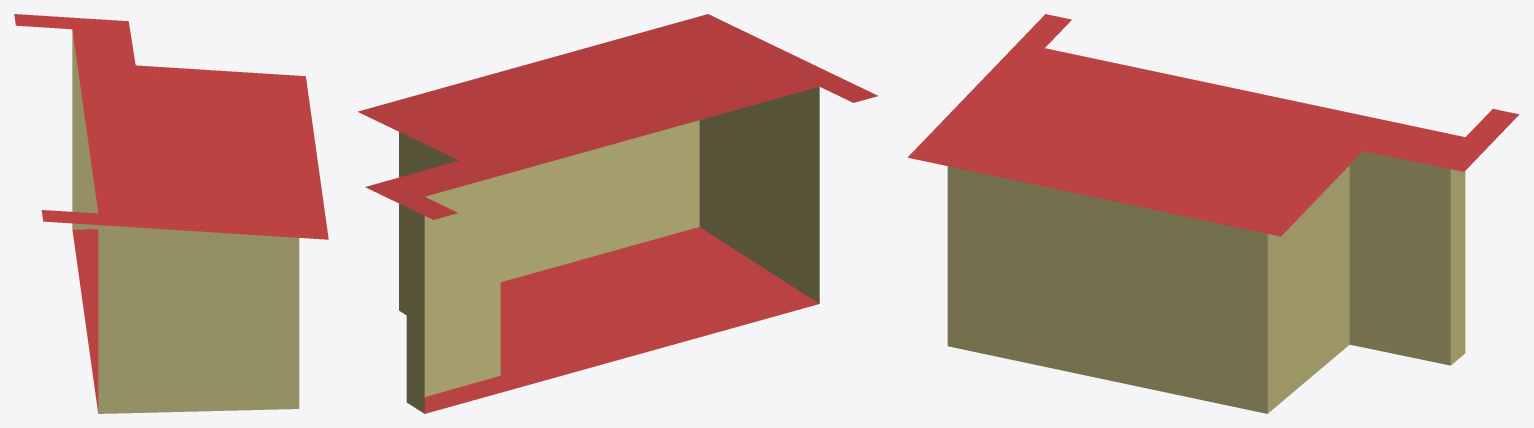
3 views of the same model, side by side, from view 1: azimuth 30°, elevation 25°; view 2: azimuth 150°, elevation 25°; view 3: azimuth 270°, elevation 25° (orthographic). The views are drawn at different scales.
Bounding box in the file's own units: 11.59 × 15.33 × 6.12.
